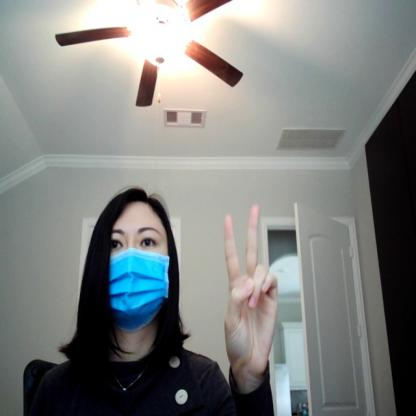two: (223, 198, 281, 378)
